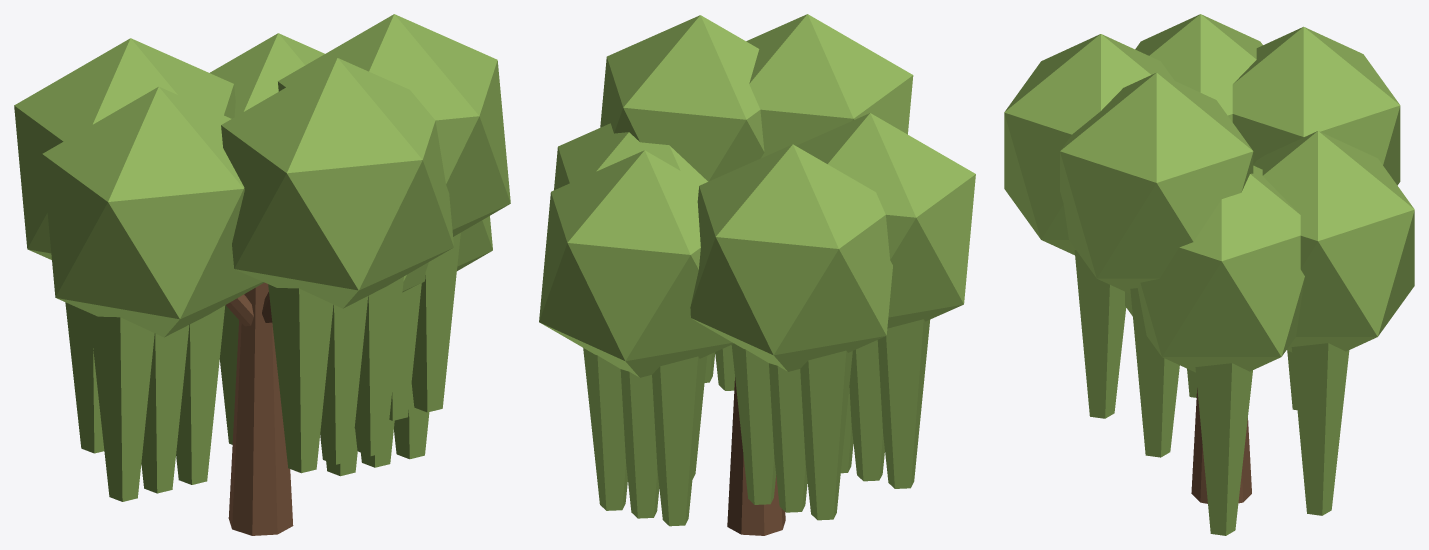
File: nature_willow.glb
3 renders of one model, left to right at view 1: azimuth 30°, elevation 25°; view 2: azimuth 150°, elevation 25°; view 3: azimuth 270°, elevation 25°, orthographic. The views are drawn at different scales.
Visible parts, largest first — view 1: nature_willow; view 2: nature_willow; view 3: nature_willow.
Part boxes in pixels (x1,y1,x2,y2): nature_willow: [14, 14, 510, 535]; nature_willow: [539, 14, 975, 535]; nature_willow: [1004, 14, 1414, 535].
Bounding box in the file's own units: 3.02 × 3.38 × 2.71.
